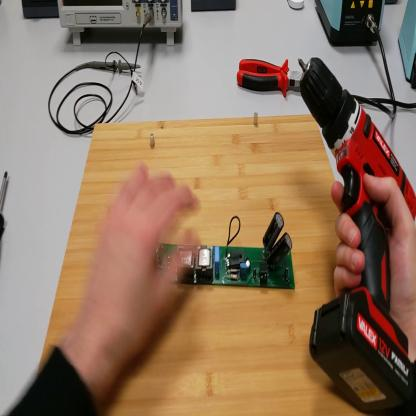electric screwdriver: (297, 57, 416, 412)
hand: (84, 164, 199, 366), (331, 169, 416, 357)
high voltage board: (157, 213, 295, 291)
oscilloscope: (56, 1, 188, 53)
oscilloscope probe tip: (87, 58, 144, 77)
pliers: (236, 59, 304, 100)
screwdriver-: (2, 168, 8, 259)
socket: (23, 2, 60, 26)
welder base: (397, 1, 415, 92)
welder station: (315, 1, 387, 51)
working area: (36, 109, 367, 414)
